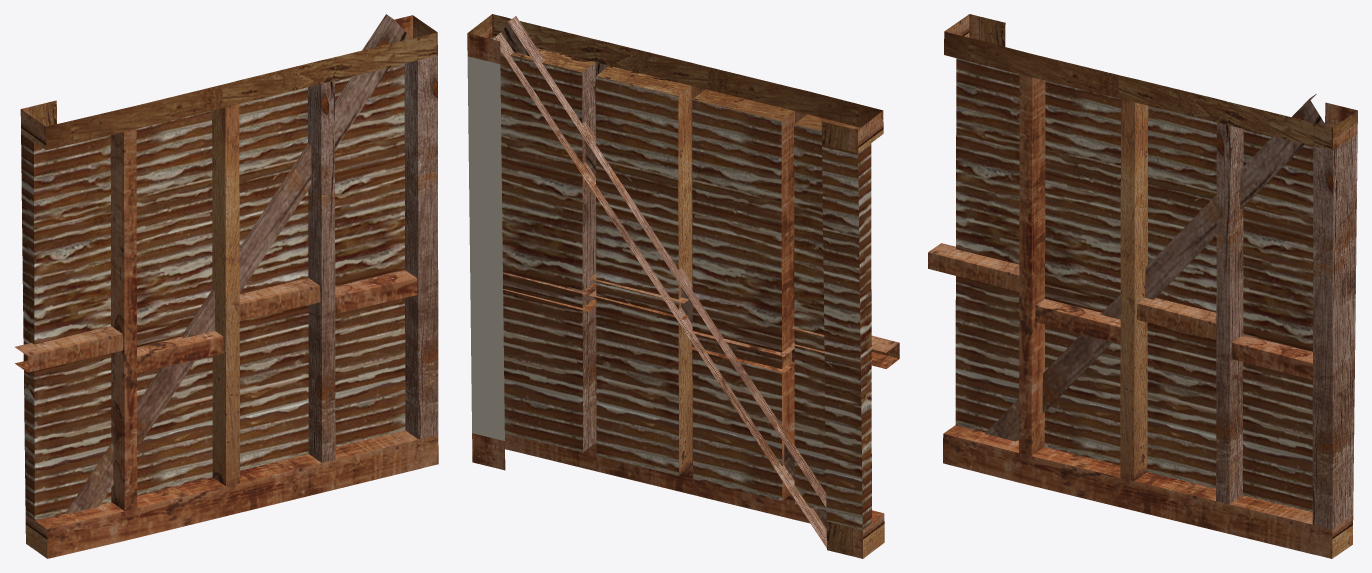
File: ST_Wall1.fbx
The picture shows the model from 3 angles, left to right: view 1: azimuth 30°, elevation 25°; view 2: azimuth 150°, elevation 25°; view 3: azimuth 330°, elevation 25°; orthographic projection.
Visible parts, largest first — view 1: SP_Wall3; view 2: SP_Wall3; view 3: SP_Wall3.
Part boxes in pixels (x1=…): SP_Wall3: x1=15, y1=14, x2=438, y2=558; SP_Wall3: x1=467, y1=14, x2=899, y2=558; SP_Wall3: x1=928, y1=14, x2=1357, y2=558.
Size of the model in its own units: 370 by 388 by 43.33.
